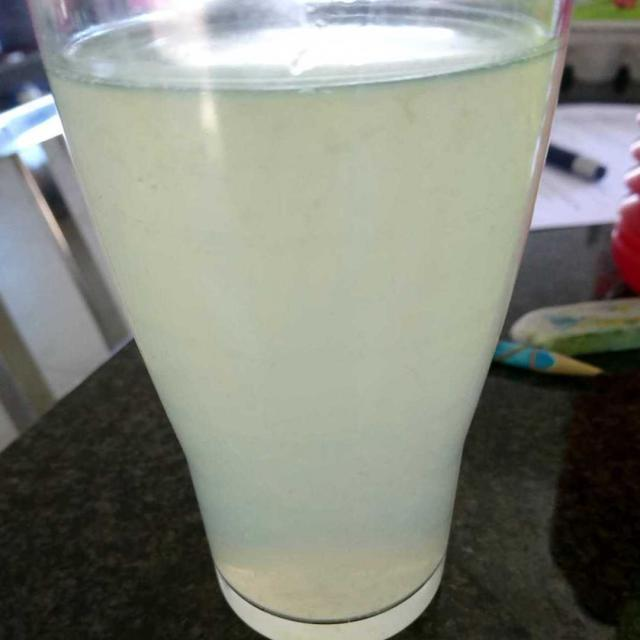water: (67, 25, 542, 611), (65, 48, 545, 565)
